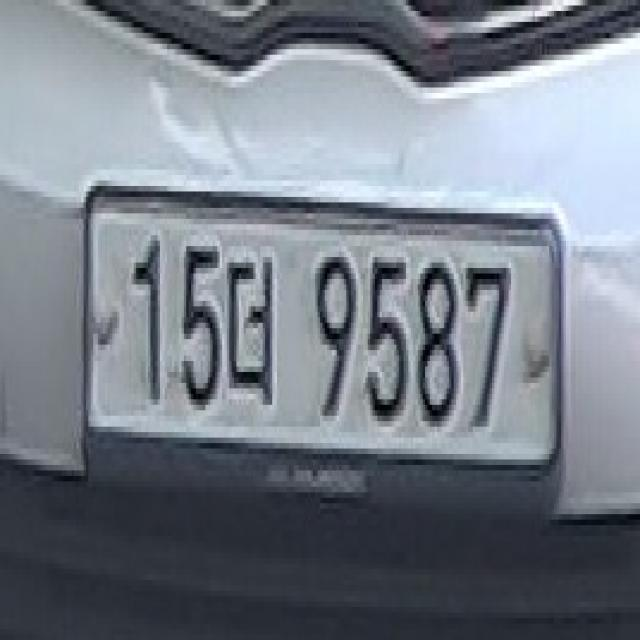1: (134, 224, 172, 416)
5: (358, 235, 413, 449), (179, 224, 222, 421)
7: (458, 240, 514, 460)
8: (411, 241, 461, 443)
9: (306, 235, 360, 443)
deo: (224, 246, 282, 427)
license_plate: (70, 164, 568, 542)
